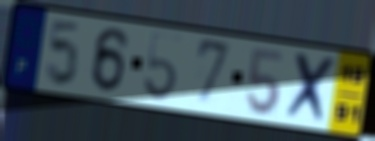5: (141, 28, 190, 104), (41, 17, 85, 88), (245, 44, 287, 118)
6: (89, 25, 131, 95)
7: (193, 36, 236, 111)
X: (281, 49, 340, 128)
